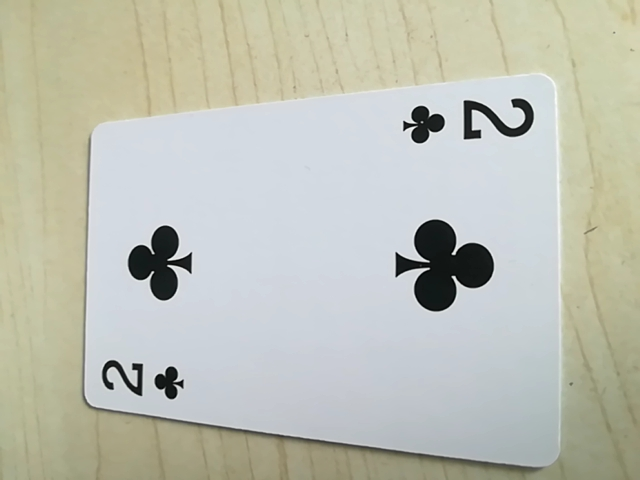mh 2: (401, 91, 537, 153), (95, 352, 189, 407)
